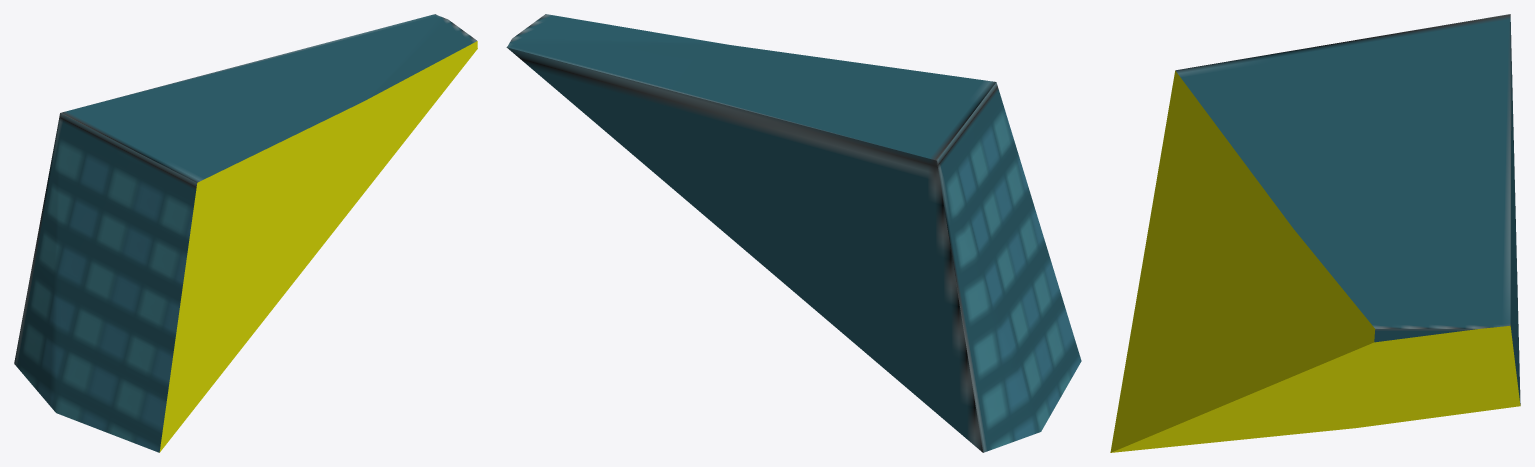
File: boAShard5.fbx
3 views of the same model, side by side, from view 1: azimuth 30°, elevation 25°; view 2: azimuth 150°, elevation 25°; view 3: azimuth 270°, elevation 25° (orthographic). The views are drawn at different scales.
Parts seen in each view (by area): view 1: shard59; view 2: shard59; view 3: shard59.
Part boxes in pixels (x1=…): shard59: x1=14, y1=14, x2=477, y2=452; shard59: x1=506, y1=14, x2=1081, y2=452; shard59: x1=1110, y1=14, x2=1520, y2=452.
Bounding box in the file's own units: 0.0747 × 0.0442 × 0.0351.
2 materials, 1 textured.
